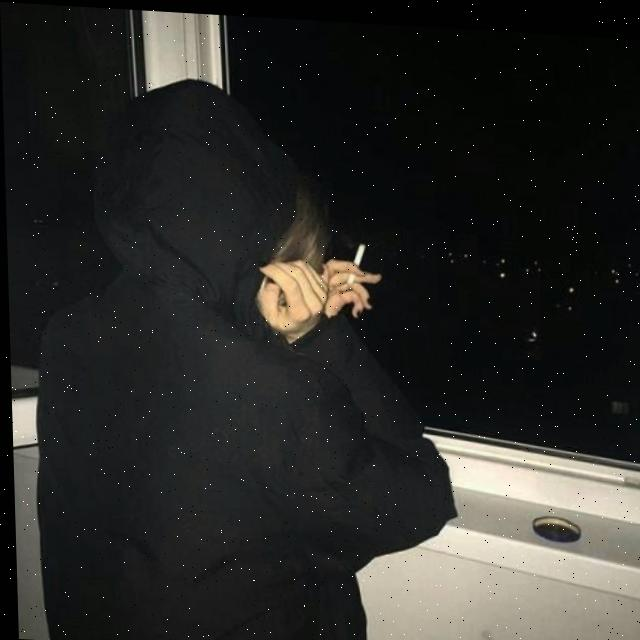cigarette: (343, 238, 364, 280)
